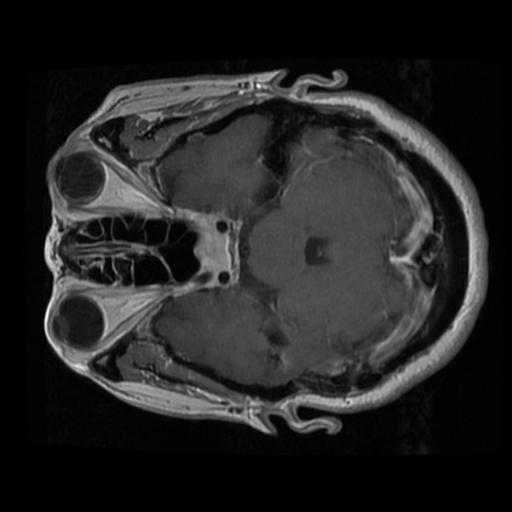pituitary tumour: (191, 215, 228, 274)
